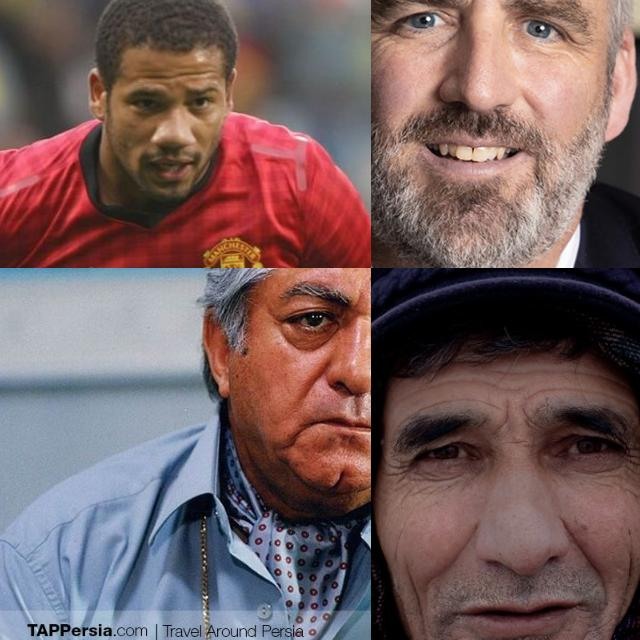chin: (325, 468, 349, 492)
crows_feet: (386, 450, 418, 490), (371, 23, 391, 57), (568, 33, 592, 61), (626, 438, 640, 484)
forehead: (568, 360, 622, 396), (489, 359, 556, 383), (418, 388, 476, 410), (548, 380, 602, 400), (130, 70, 172, 82), (180, 66, 214, 80)
frown_line: (498, 394, 532, 436), (347, 285, 371, 312), (466, 0, 486, 14)
gummy_smile: (568, 531, 604, 579), (442, 529, 476, 579), (302, 358, 326, 390), (520, 92, 544, 120)
masseter: (400, 572, 434, 640), (616, 542, 638, 600)
sad_smile: (284, 422, 302, 450)
